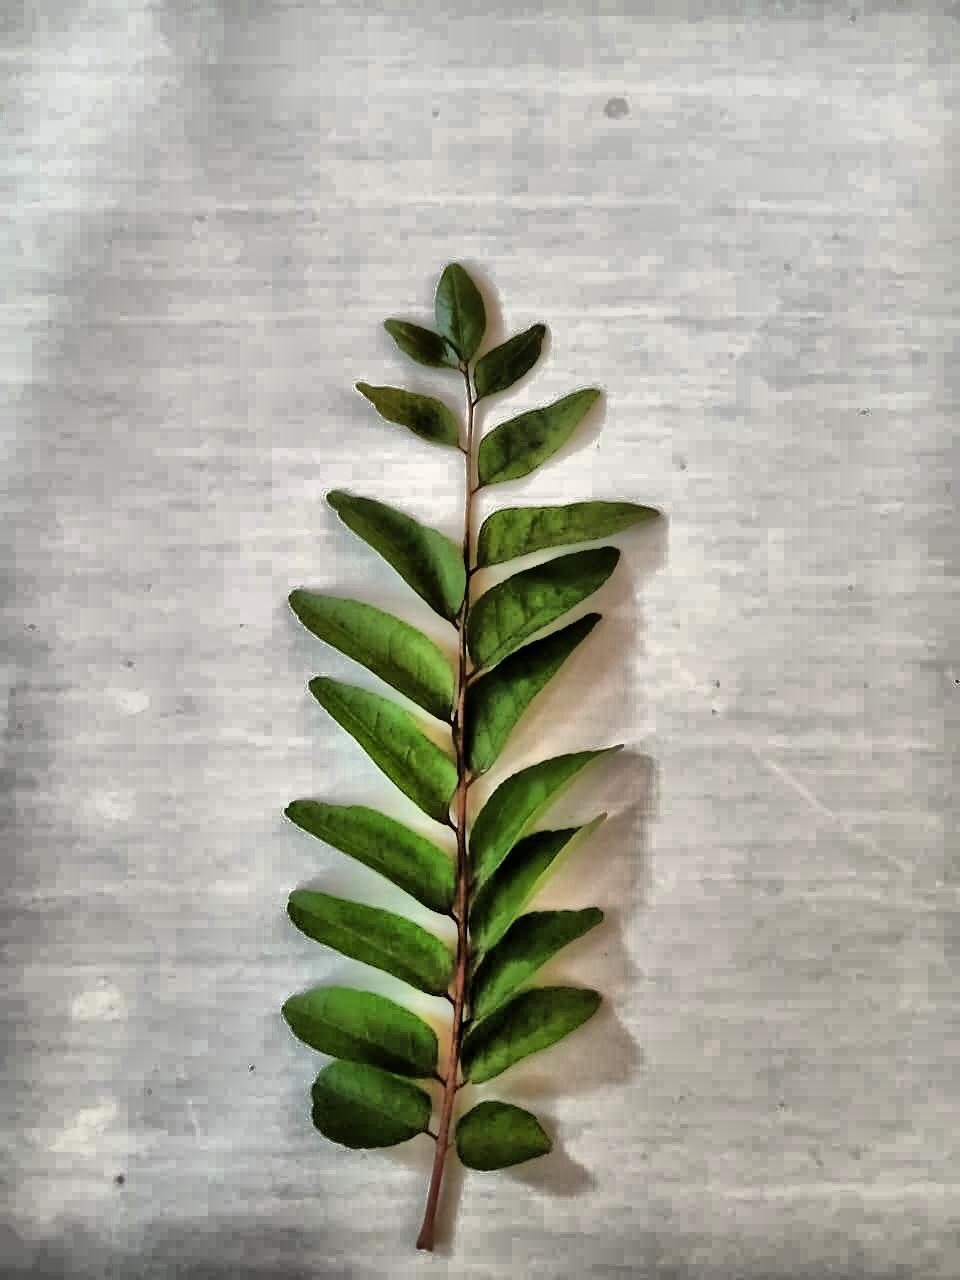daun kari: (283, 263, 636, 1250)
